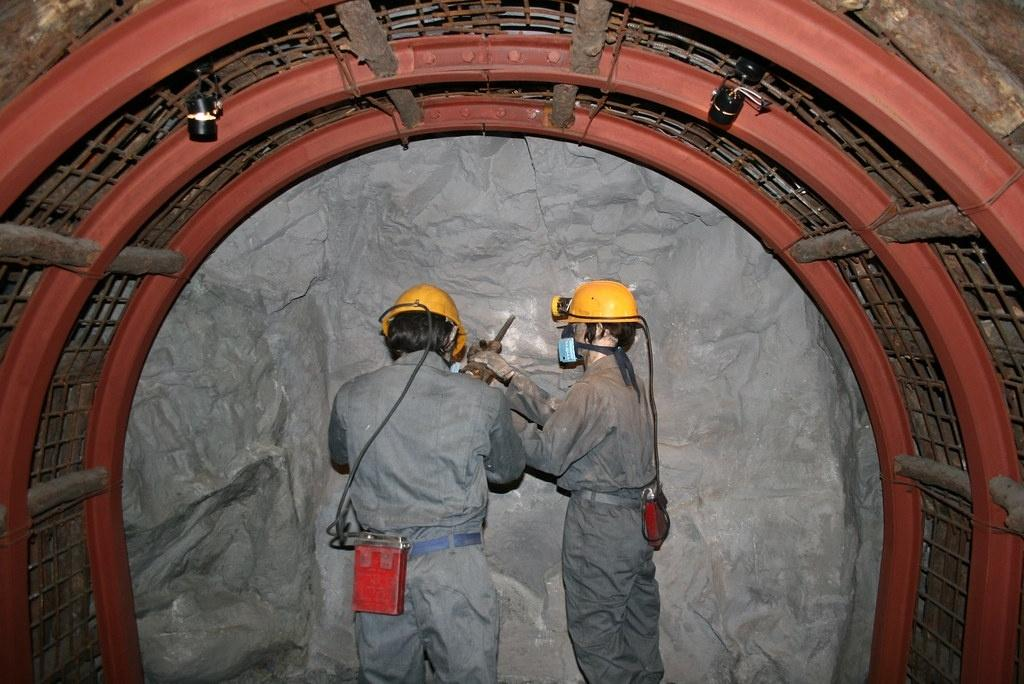capacete: (377, 283, 475, 351), (545, 281, 637, 333)
pessoa: (311, 271, 514, 684), (544, 276, 668, 684)
